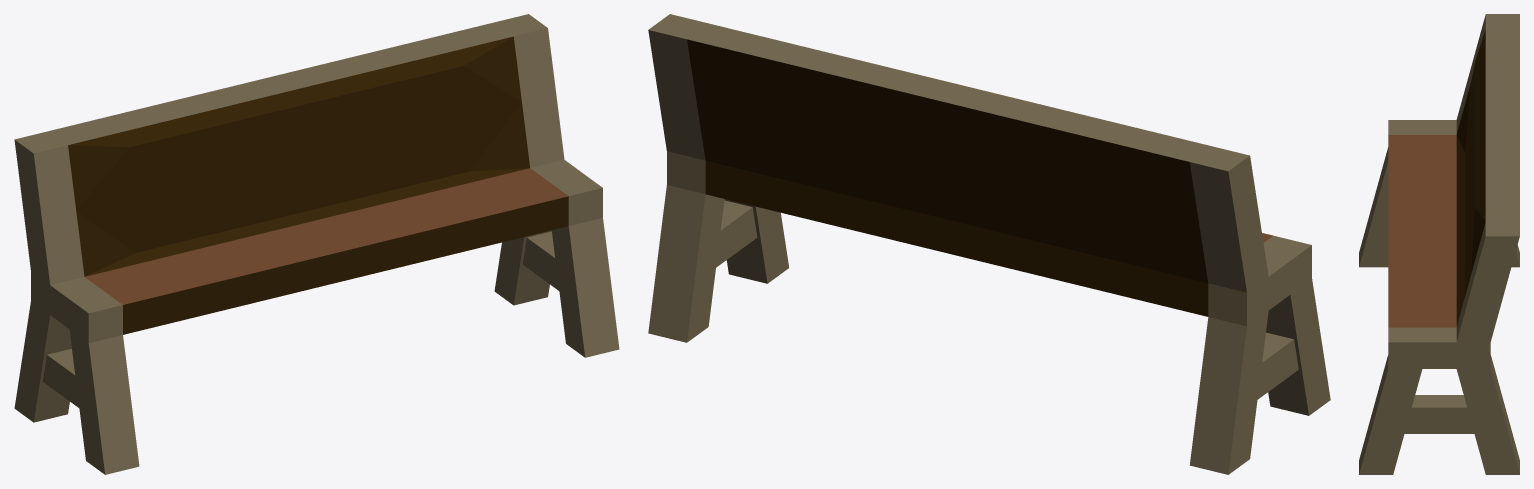
The model's file is Bench.fbx.
3 views of the same model, side by side, from view 1: azimuth 30°, elevation 25°; view 2: azimuth 150°, elevation 25°; view 3: azimuth 270°, elevation 25° (orthographic). The views are drawn at different scales.
Visible parts, largest first — view 1: Bench; view 2: Bench; view 3: Bench.
Boxes of the visible parts, <box> form: Bench: <box>14,14,619,474</box>; Bench: <box>648,14,1330,474</box>; Bench: <box>1359,14,1519,474</box>.
Size of what is drawn, in the model's own units: 1.98 by 0.99 by 0.605.
